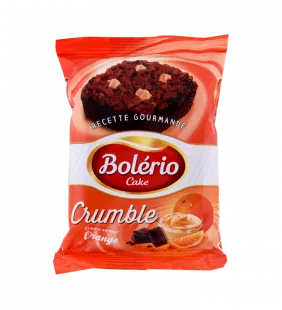BOLERIO: (44, 28, 236, 284)
